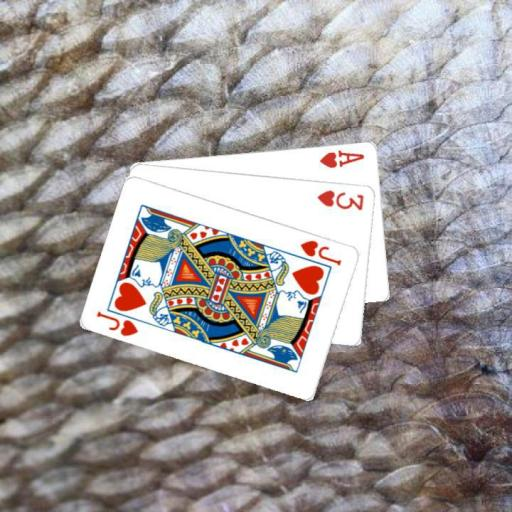3H: (315, 186, 366, 212)
AH: (317, 147, 367, 170)
JH: (298, 237, 344, 267), (94, 308, 140, 338)
